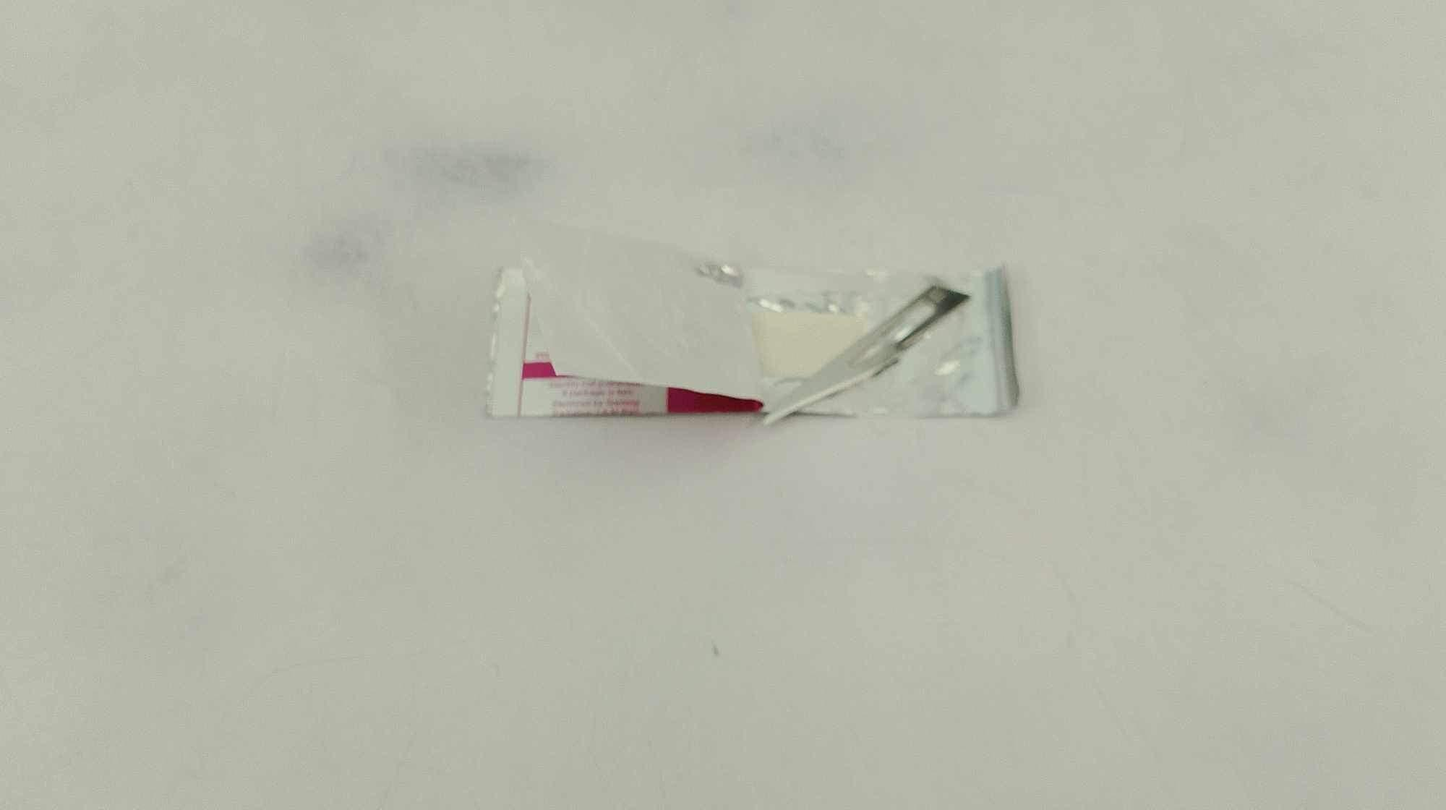Sharps: (483, 255, 1017, 427)
